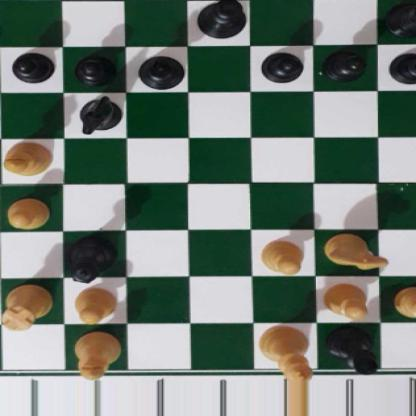black-bishop: (324, 326, 379, 376), (136, 54, 184, 90)
black-king: (194, 0, 246, 38)
black-knight: (75, 96, 124, 135)
black-pawn: (261, 49, 303, 82), (323, 49, 367, 80), (74, 52, 115, 85), (11, 51, 51, 83), (388, 50, 416, 84)
black-queen: (65, 233, 117, 285)
black-rook: (386, 0, 416, 36)
white-bishop: (74, 330, 124, 380), (1, 141, 51, 176)
white-king: (258, 325, 316, 382)
white-knight: (321, 231, 390, 271)
white-pawn: (321, 282, 370, 320), (71, 286, 117, 324), (4, 196, 51, 231), (259, 238, 303, 274), (392, 286, 416, 320)
white-rook: (0, 282, 55, 331)
